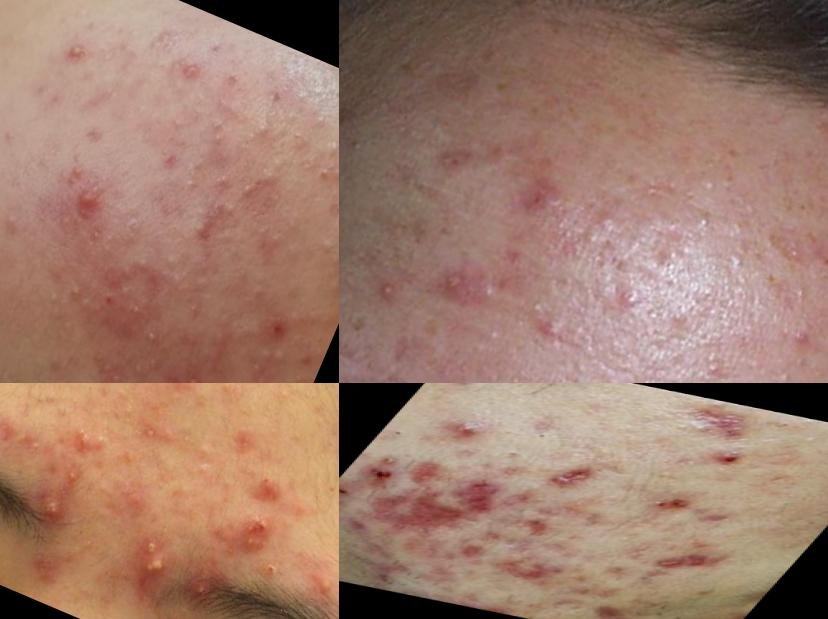acne_scars: (357, 488, 467, 547), (654, 395, 768, 447), (482, 547, 578, 591), (489, 503, 581, 548), (385, 450, 460, 496), (446, 474, 523, 518), (537, 455, 606, 499), (658, 544, 736, 582), (680, 499, 750, 532), (573, 603, 640, 619)
blackhead: (746, 414, 828, 446), (504, 418, 579, 452), (470, 445, 534, 475), (651, 597, 718, 619), (380, 418, 426, 450)
folliculitis: (57, 459, 97, 492), (135, 416, 171, 449)
papular: (492, 159, 579, 244), (57, 175, 122, 234), (170, 208, 225, 252), (242, 468, 291, 516)
purulent: (357, 262, 419, 321), (49, 34, 95, 83), (310, 567, 340, 604)
sebo-crystan-conglo: (412, 241, 511, 322), (223, 517, 281, 570), (135, 546, 175, 589), (39, 496, 70, 532)
whitehead: (285, 110, 340, 194), (519, 295, 587, 358), (762, 316, 826, 373), (572, 202, 629, 263), (676, 337, 737, 384), (773, 266, 828, 318), (183, 433, 228, 490), (235, 106, 284, 157), (675, 197, 721, 251), (470, 315, 516, 359), (252, 340, 290, 384), (232, 172, 271, 213), (172, 51, 212, 88), (175, 158, 209, 200), (148, 22, 183, 59), (136, 321, 172, 355), (305, 99, 339, 135), (151, 264, 193, 293), (237, 282, 270, 316), (212, 471, 244, 506), (141, 345, 171, 382), (120, 352, 154, 384), (206, 119, 235, 151), (124, 251, 157, 279), (1, 209, 29, 241), (314, 235, 340, 268), (209, 170, 236, 199), (180, 297, 207, 324), (55, 313, 84, 338), (167, 110, 190, 136), (44, 287, 65, 313), (116, 278, 139, 301), (280, 242, 299, 268), (65, 282, 85, 303), (180, 373, 208, 384)
